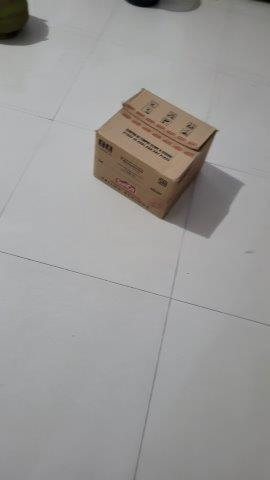kardus: (95, 87, 218, 221)
